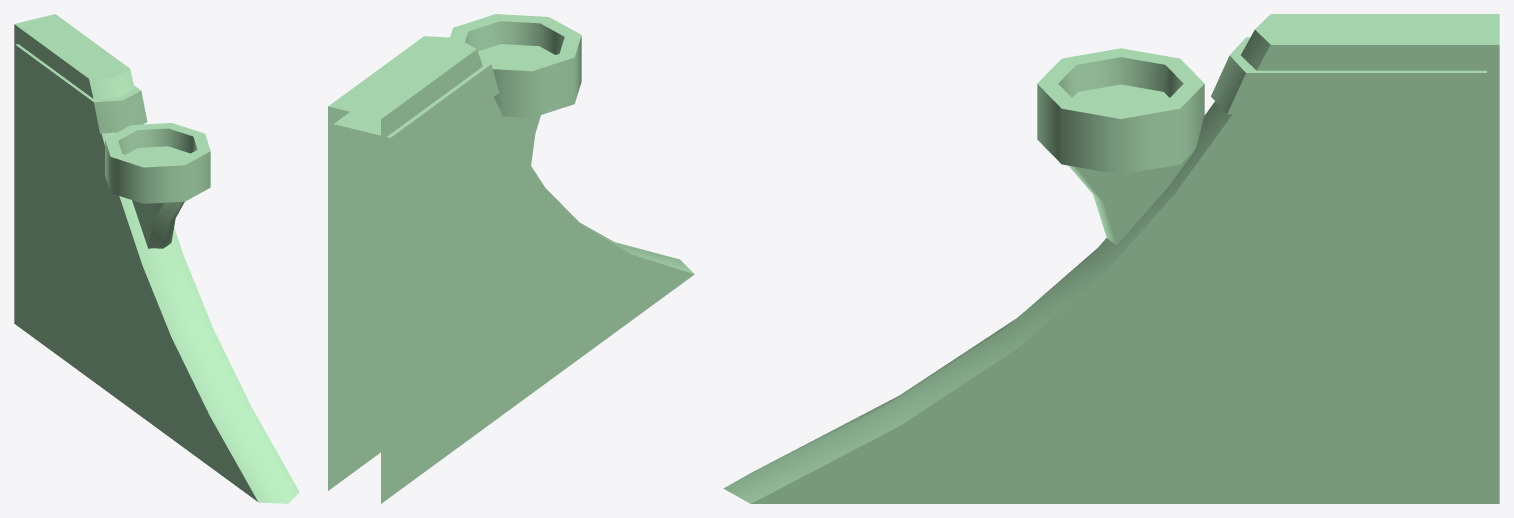
3 views of the same model, side by side, from view 1: azimuth 30°, elevation 25°; view 2: azimuth 150°, elevation 25°; view 3: azimuth 270°, elevation 25° (orthographic). The views are drawn at different scales.
Visible parts, largest first — view 1: Object06; view 2: Object06; view 3: Object06.
Boxes of the visible parts, <box> form: Object06: <box>14,14,299,503</box>; Object06: <box>328,14,694,503</box>; Object06: <box>723,14,1499,503</box>.
Size of the model in its own units: 101 by 304 by 466.
